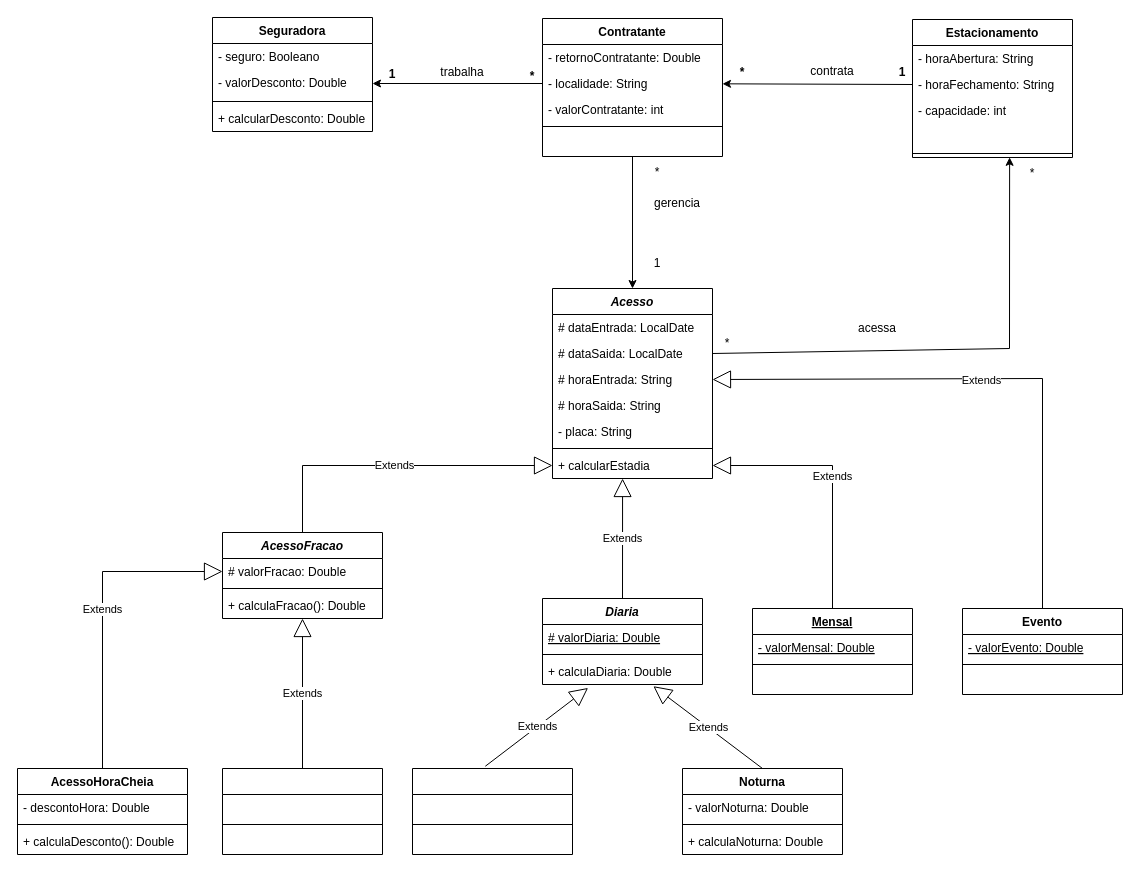
The diagram is 1140 pixels wide and 875 high, and some of its shapes have lost their labels. Each missing label, with the centre of its shape:
"Acesso15Minutos" belongs at point (302, 811).
"Diurna" belongs at point (492, 811).
